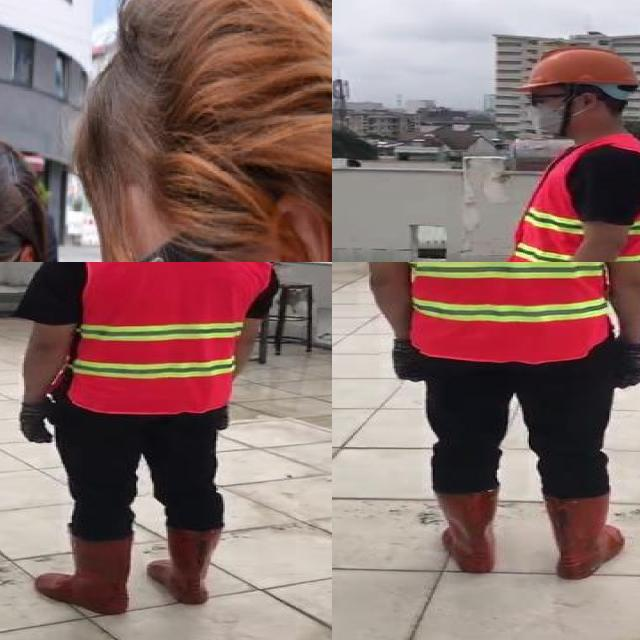No_Ear-Protection: (256, 189, 332, 262)
boots: (35, 533, 134, 613), (543, 493, 625, 580), (426, 486, 499, 574), (145, 525, 221, 604)
face_mask: (522, 88, 576, 136)
hand_glove: (17, 398, 58, 442), (612, 341, 640, 388), (392, 341, 424, 382)
head_helmet: (519, 45, 640, 90)
head_nohelmet: (82, 11, 332, 234), (0, 163, 31, 260)
person: (0, 262, 278, 622), (358, 262, 640, 586), (469, 37, 640, 262)
vest: (75, 262, 272, 413), (379, 262, 616, 363), (505, 136, 640, 262)
